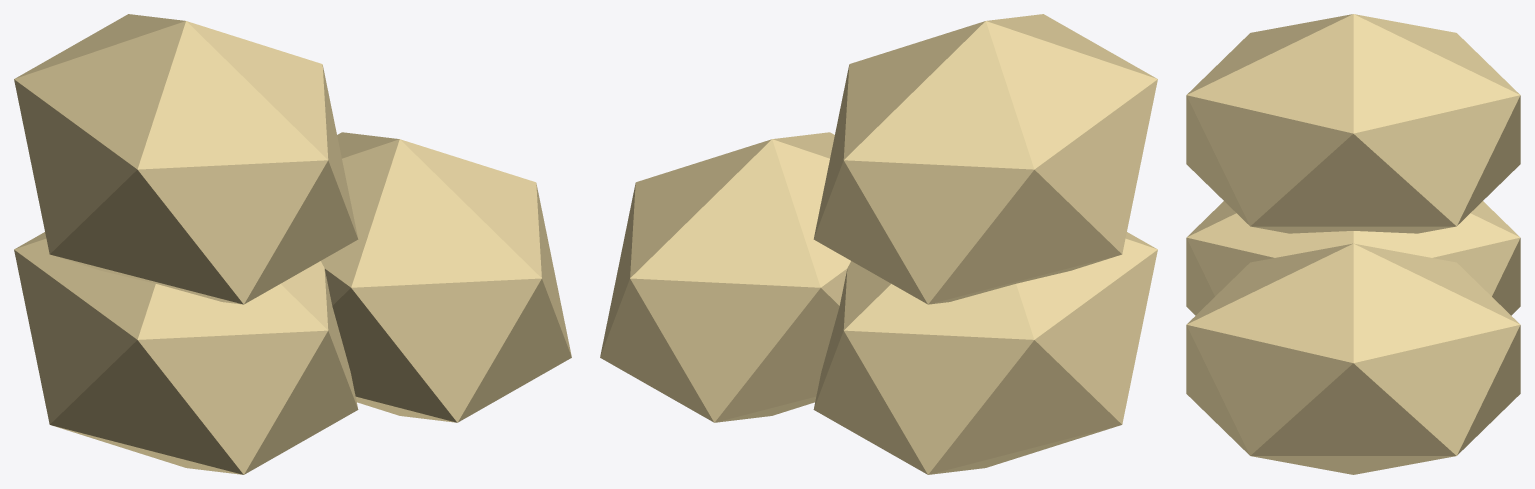
Rendered from cargo_sand.fbx.
3 renders of one model, left to right at view 1: azimuth 30°, elevation 25°; view 2: azimuth 150°, elevation 25°; view 3: azimuth 270°, elevation 25°, orthographic. The views are drawn at different scales.
Visible parts, largest first — view 1: cargo_sand_mesh; view 2: cargo_sand_mesh; view 3: cargo_sand_mesh.
Boxes of the visible parts, x1,y1,x2,y2 form: cargo_sand_mesh: (14,14,571,474); cargo_sand_mesh: (600,14,1157,474); cargo_sand_mesh: (1186,14,1520,474).
Size of the model in its own units: 0.4783 by 0.42 by 0.3403.
